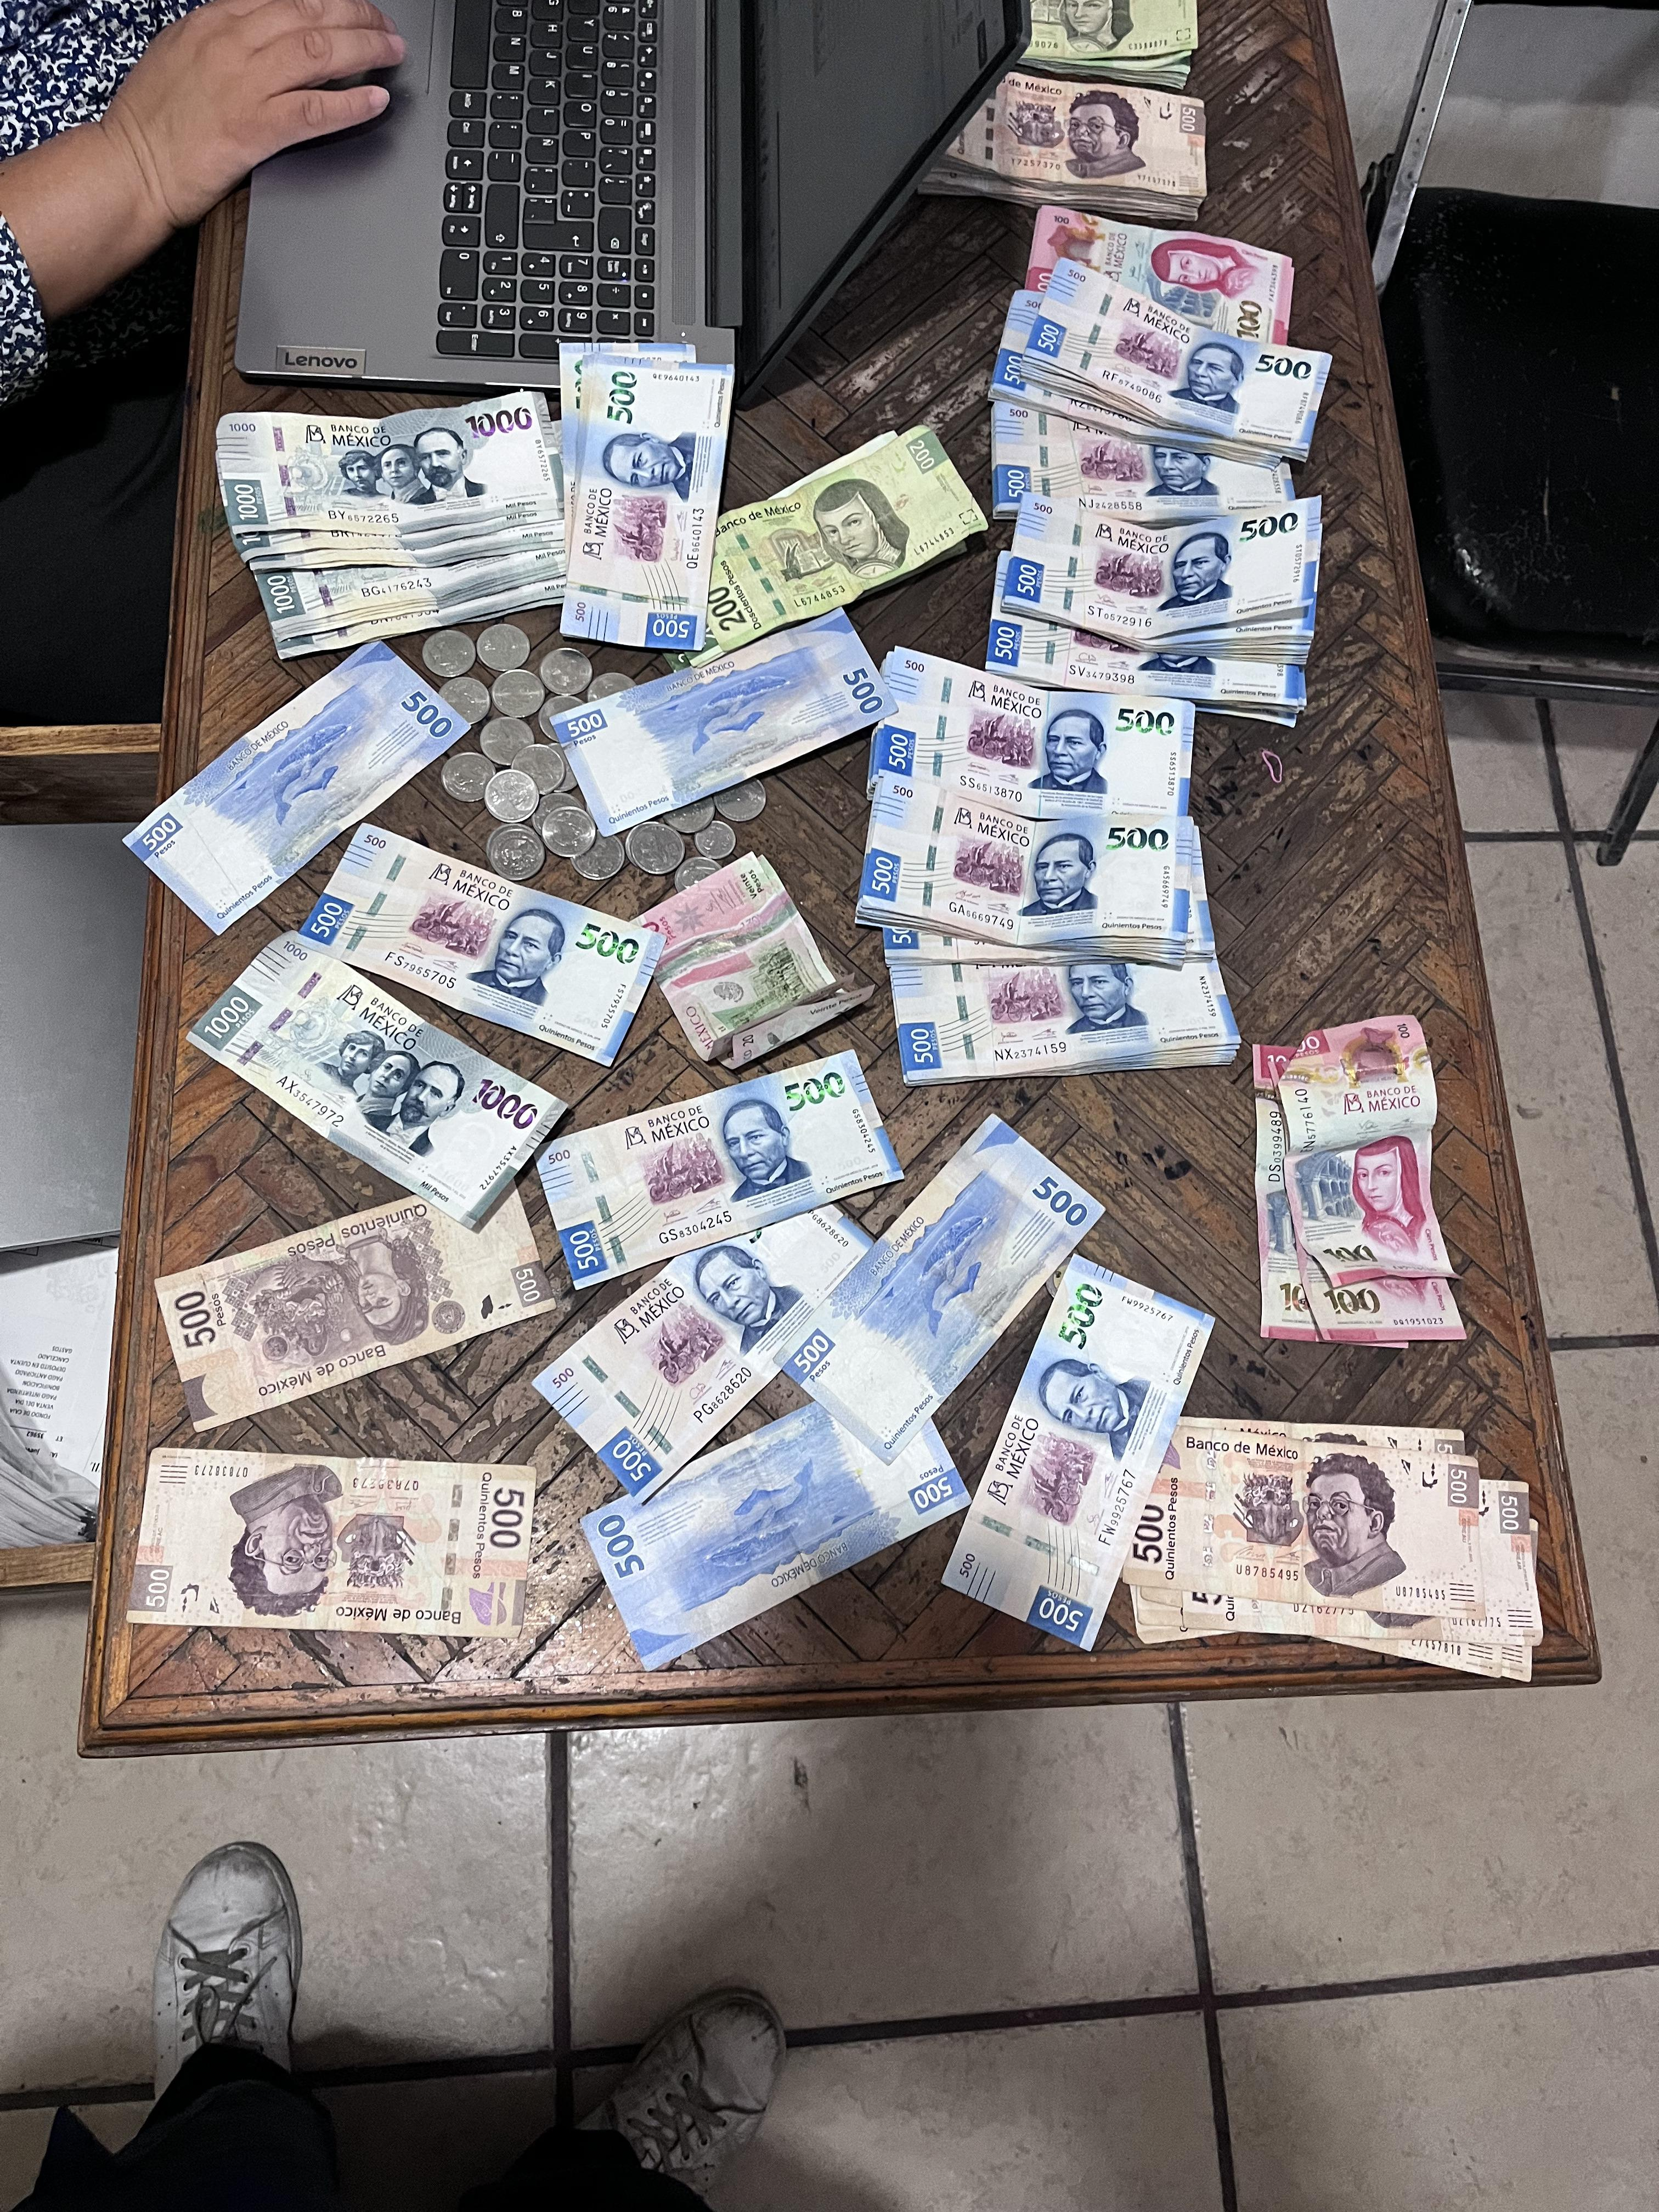100: (1237, 1017, 1469, 1357), (1012, 199, 1309, 348)
1000: (183, 927, 566, 1228), (209, 385, 591, 622)
20: (641, 857, 894, 1073)
200: (638, 418, 1002, 637), (969, 0, 1202, 78)
500: (80, 1160, 603, 1411), (85, 1430, 591, 1676), (1114, 1407, 1565, 1681), (842, 61, 1227, 223)
500 nuevo: (518, 1430, 1033, 1691), (103, 637, 500, 907), (948, 1235, 1183, 1686), (481, 1193, 894, 1449), (979, 282, 1359, 531), (796, 1103, 1075, 1439), (289, 813, 657, 1062), (997, 474, 1347, 728), (512, 1043, 899, 1259), (850, 773, 1223, 958), (552, 615, 885, 806), (857, 651, 1201, 824), (877, 939, 1277, 1082), (551, 334, 727, 646)
